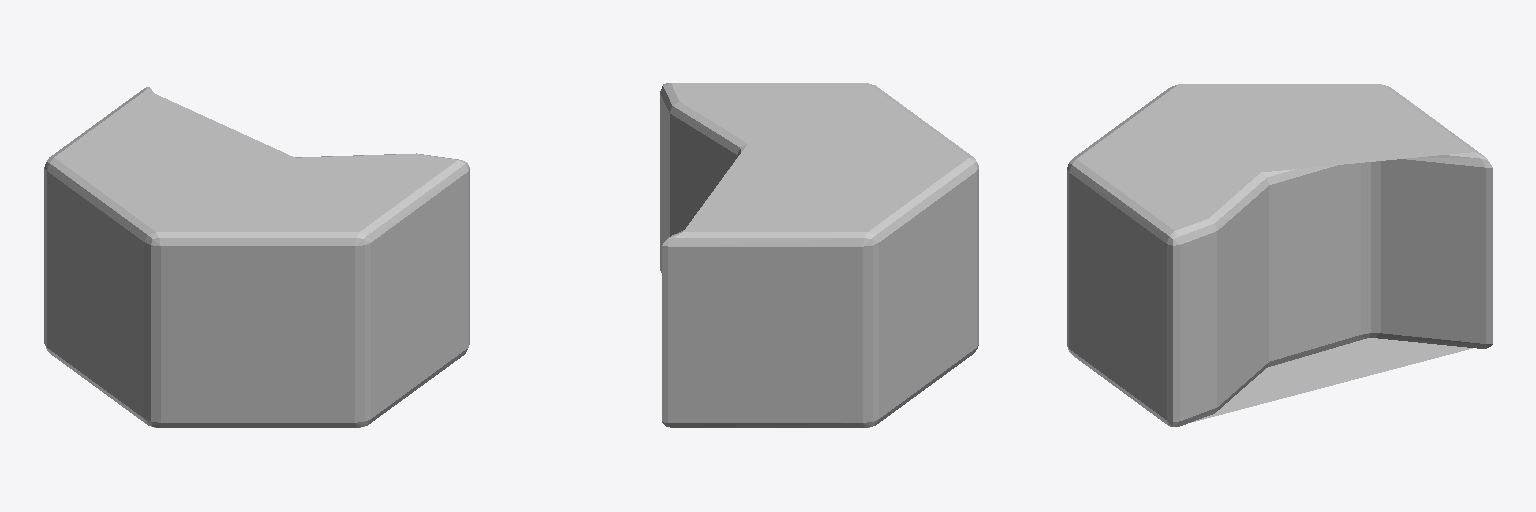
The model's file is sand_border1.obj.
3 renders of one model, left to right at view 1: azimuth 30°, elevation 25°; view 2: azimuth 150°, elevation 25°; view 3: azimuth 270°, elevation 25°, orthographic.
Visible parts, largest first — view 1: sand_border1; view 2: sand_border1; view 3: sand_border1.
Part boxes in pixels (bbox=[...]): sand_border1: bbox=[44, 87, 469, 427]; sand_border1: bbox=[660, 83, 978, 427]; sand_border1: bbox=[1067, 84, 1492, 426].
Size of the model in its own units: 6.84 by 4 by 7.88.